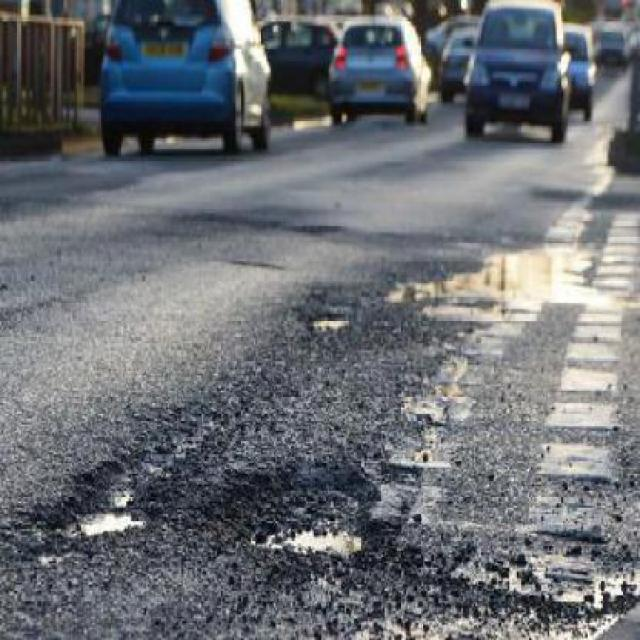Pothole: (230, 469, 378, 558), (40, 446, 161, 538), (308, 309, 350, 333)
